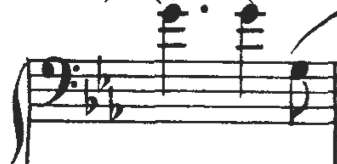bass_clef: (35, 49, 83, 112)
flat: (106, 84, 126, 129), (79, 76, 100, 118), (94, 50, 112, 96)
